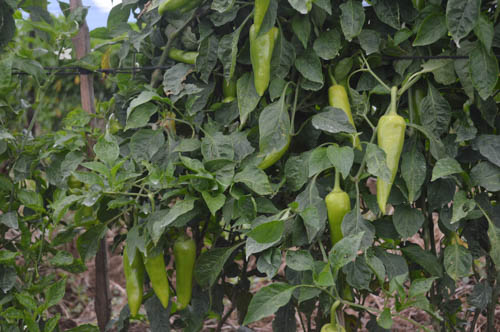ChiliPepper: (371, 114, 408, 222), (326, 85, 363, 145), (247, 24, 278, 93), (172, 240, 202, 308), (320, 192, 354, 246), (143, 247, 173, 307), (120, 246, 145, 314), (165, 45, 204, 67)
